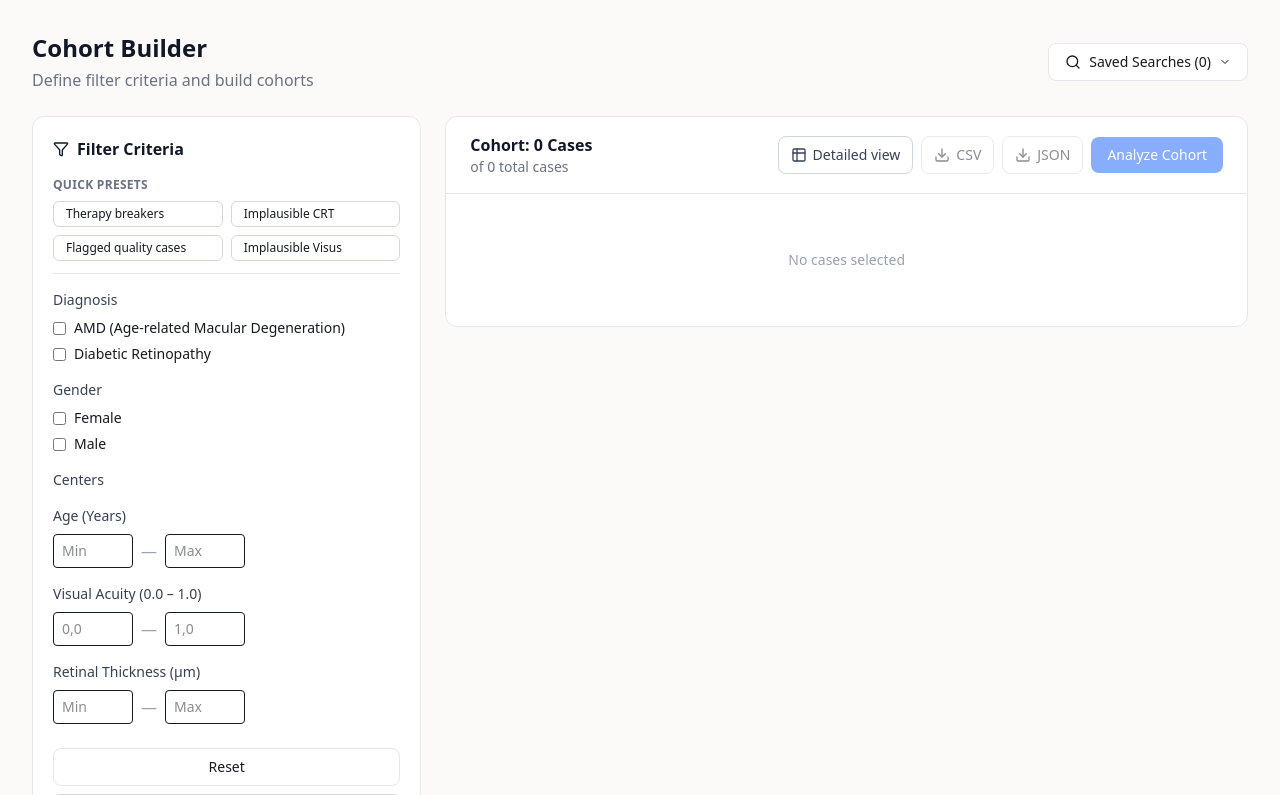
cohortFilterPersistence — COH-02 sessionStorage round-trip › Reset button also clears visusMinText and visusMaxText
Step 1. Type "0.5" into the field with placeholder "0,0" → (93, 629), box [53,612,133,646]
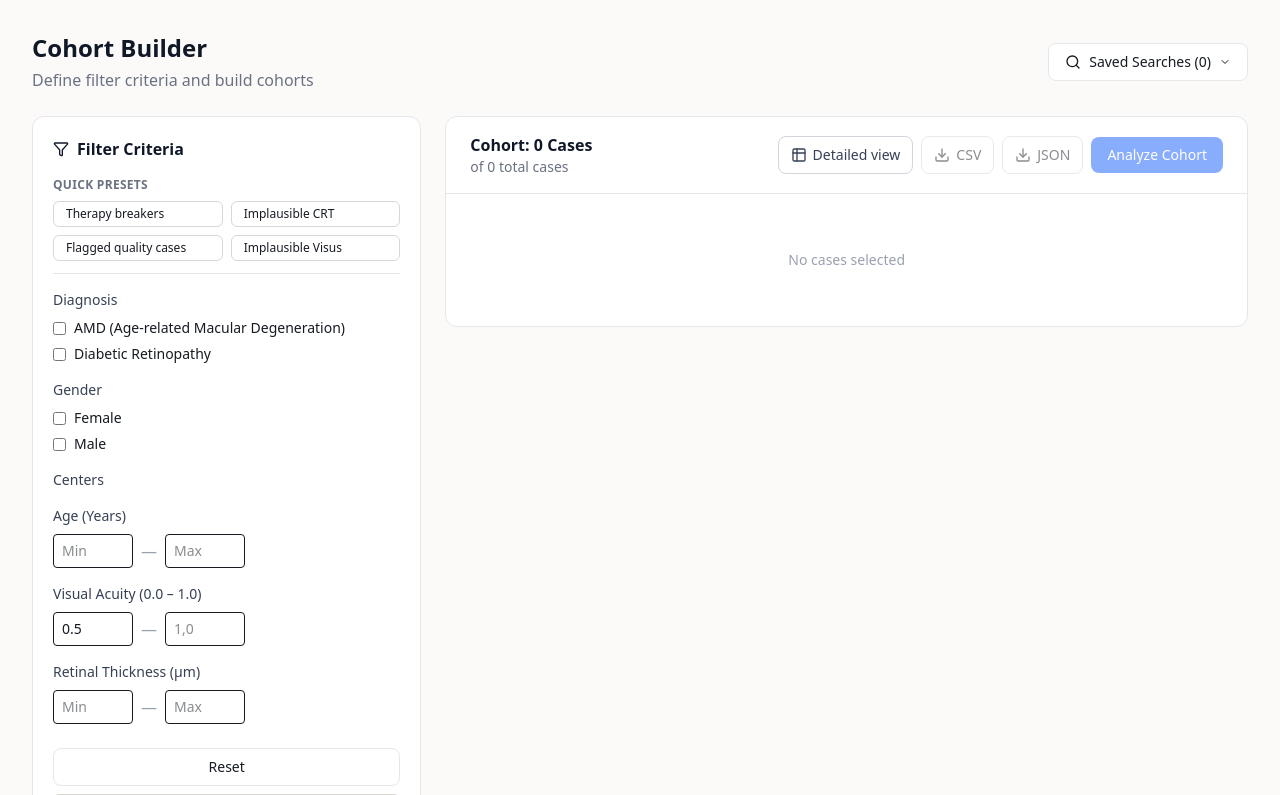
Step 2. Type "0.8" into the field with placeholder "1,0" → (205, 629), box [165,612,245,646]
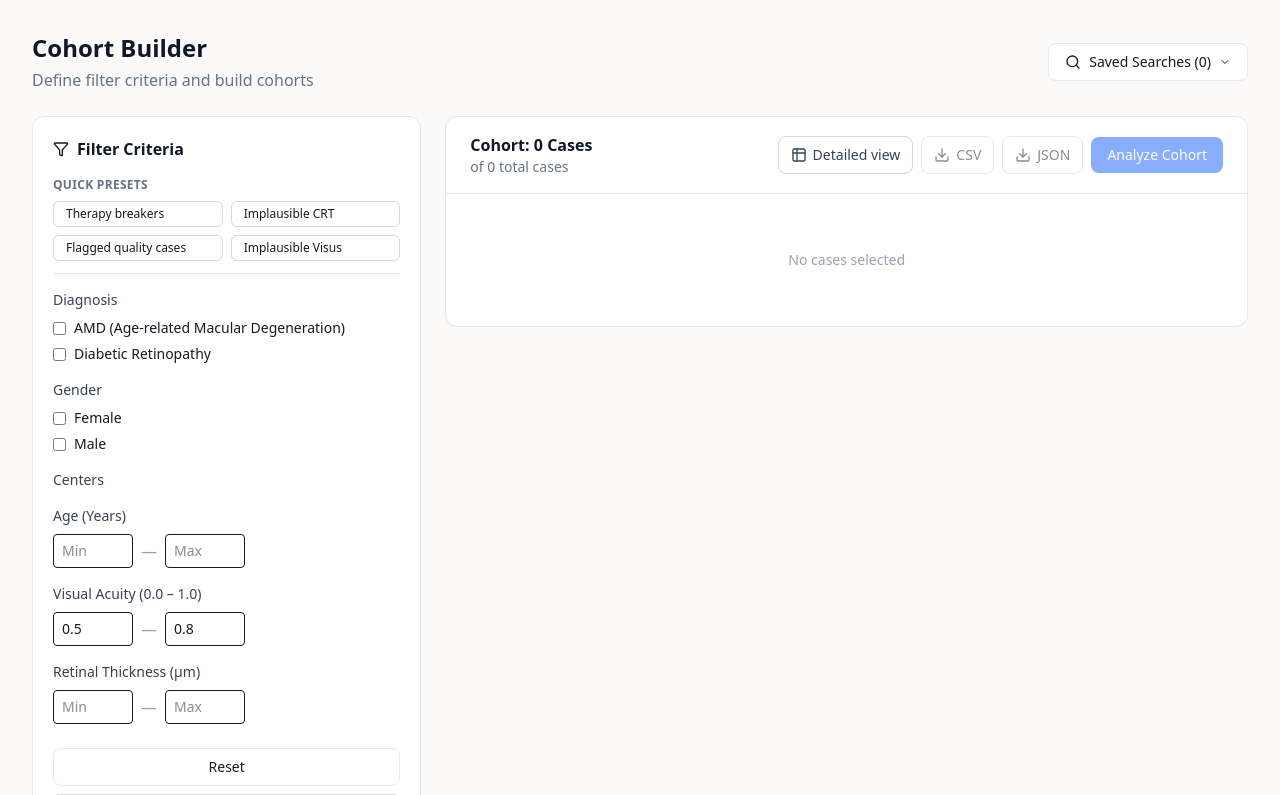
Step 3. Click the button "Reset" → (227, 767), box [53,748,400,786]
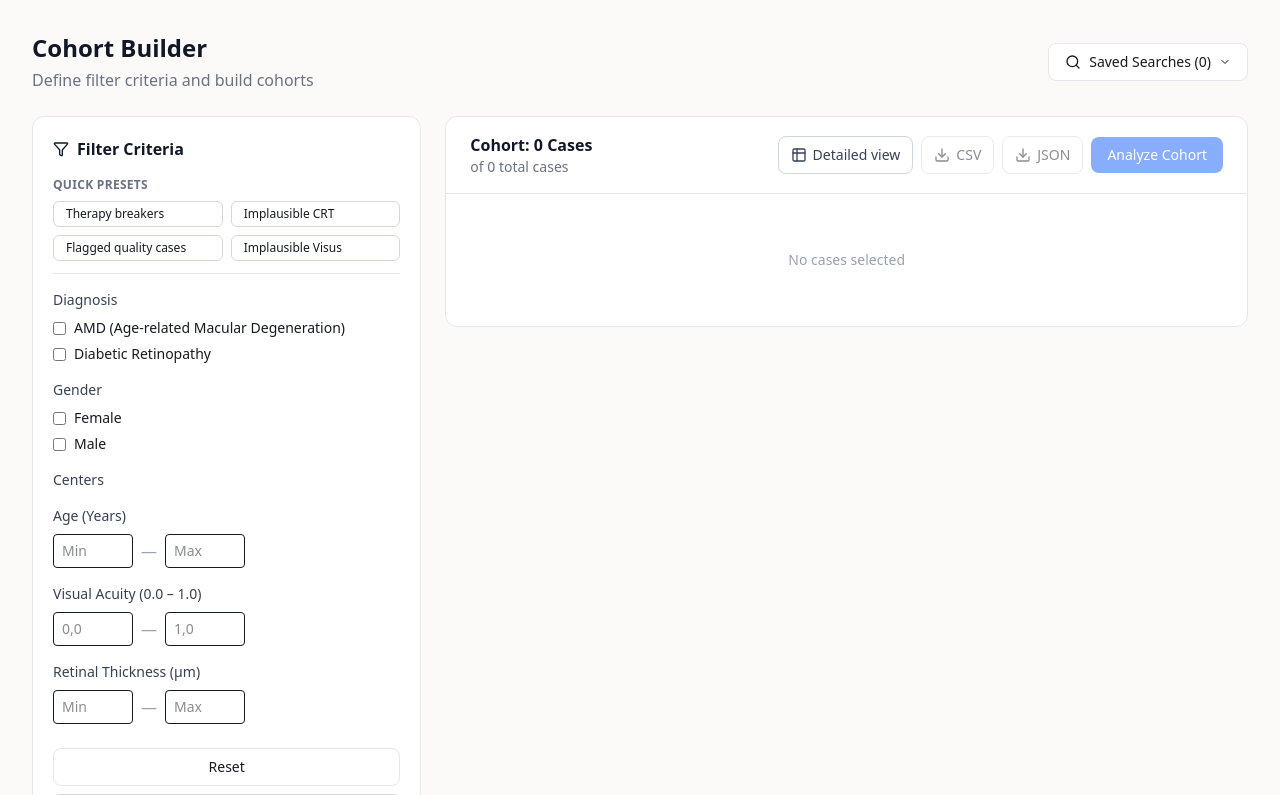
Expected: the field with placeholder "0,0" is empty, [53,612,133,646]
Expected: the field with placeholder "1,0" is empty, [165,612,245,646]
